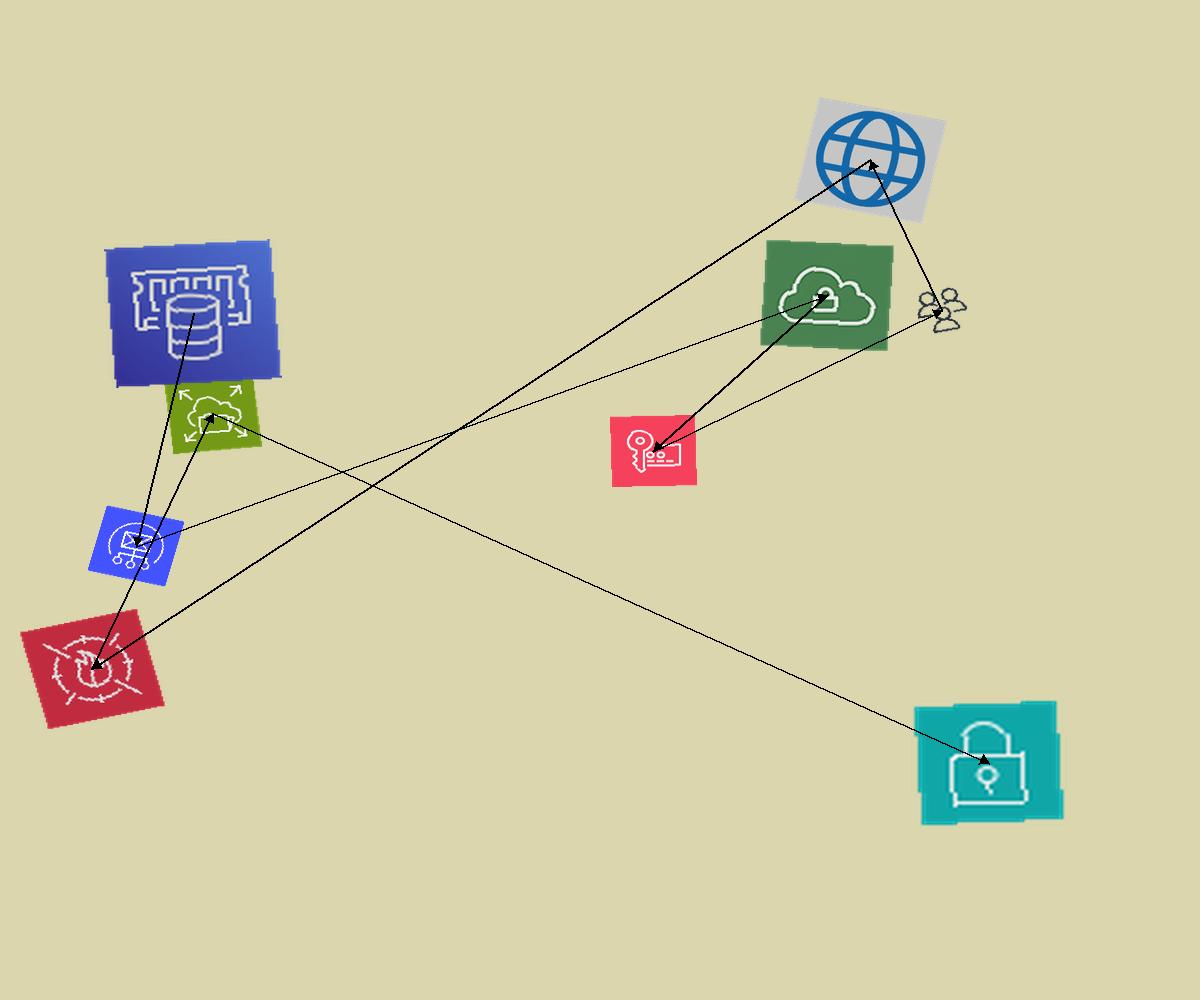AWS-EFS: (163, 372, 263, 455)
AWS-ElastiCache: (104, 239, 282, 388)
AWS-Key-Management-Service: (610, 415, 697, 487)
AWS-Private-subnet: (911, 698, 1067, 828)
AWS-Private_vpc: (759, 239, 895, 352)
AWS-Res_Users: (909, 283, 975, 338)
AWS-Simple-Email-Service: (87, 505, 185, 587)
AWS-WAF: (19, 608, 166, 730)
Azure_http: (794, 97, 947, 224)
